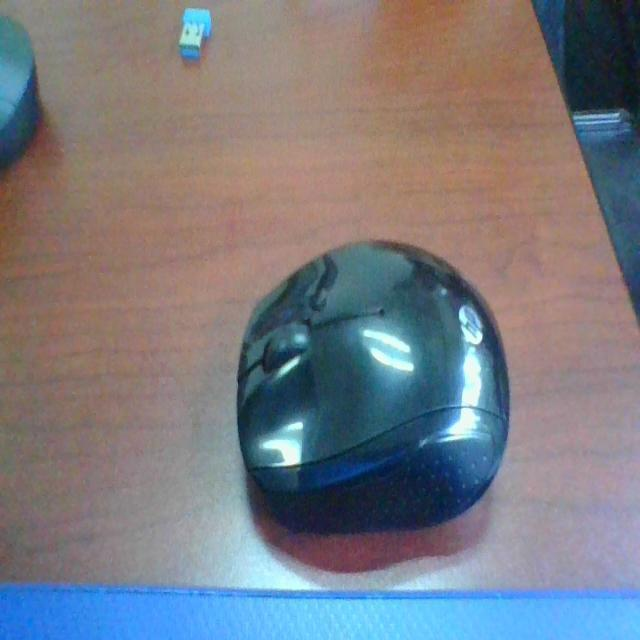Mouse: (238, 233, 531, 562)
